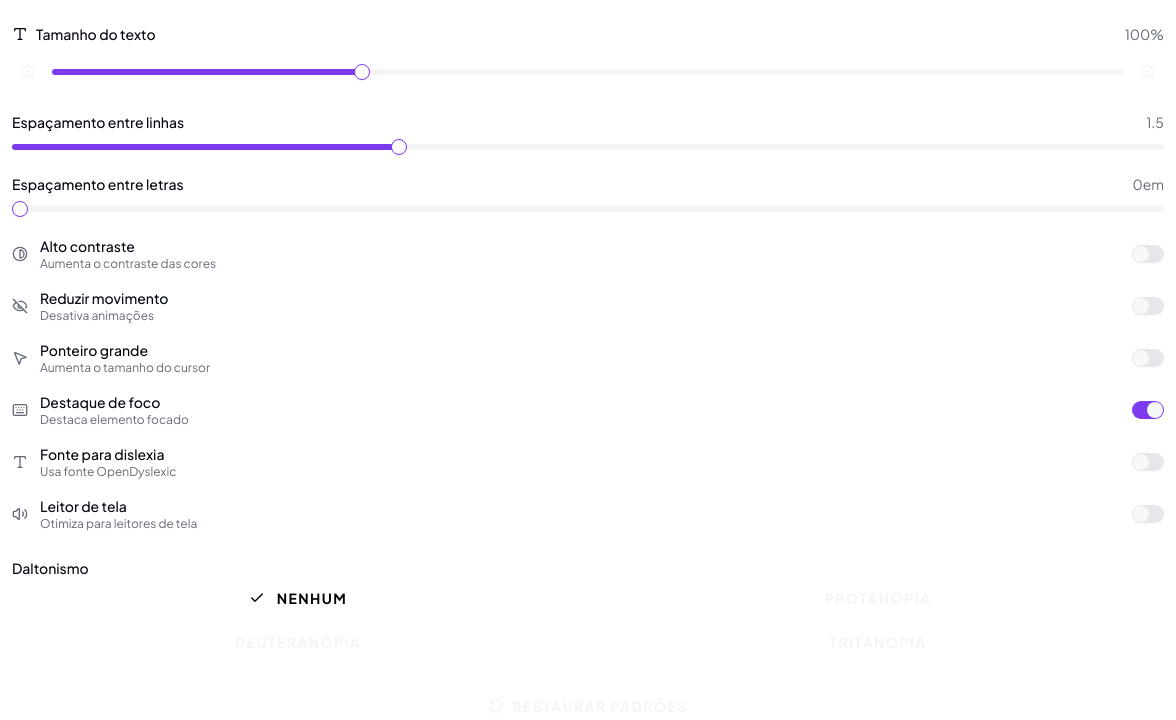
Test: o interruptor Reduzir movimento chega no framer-motion › ligar o switch no painel muda o app inteiro na hora, sem recarregar
Click the switch in the row of "Reduzir movimento": (1148, 306) [1132,297,1164,315]
(page scrolled)
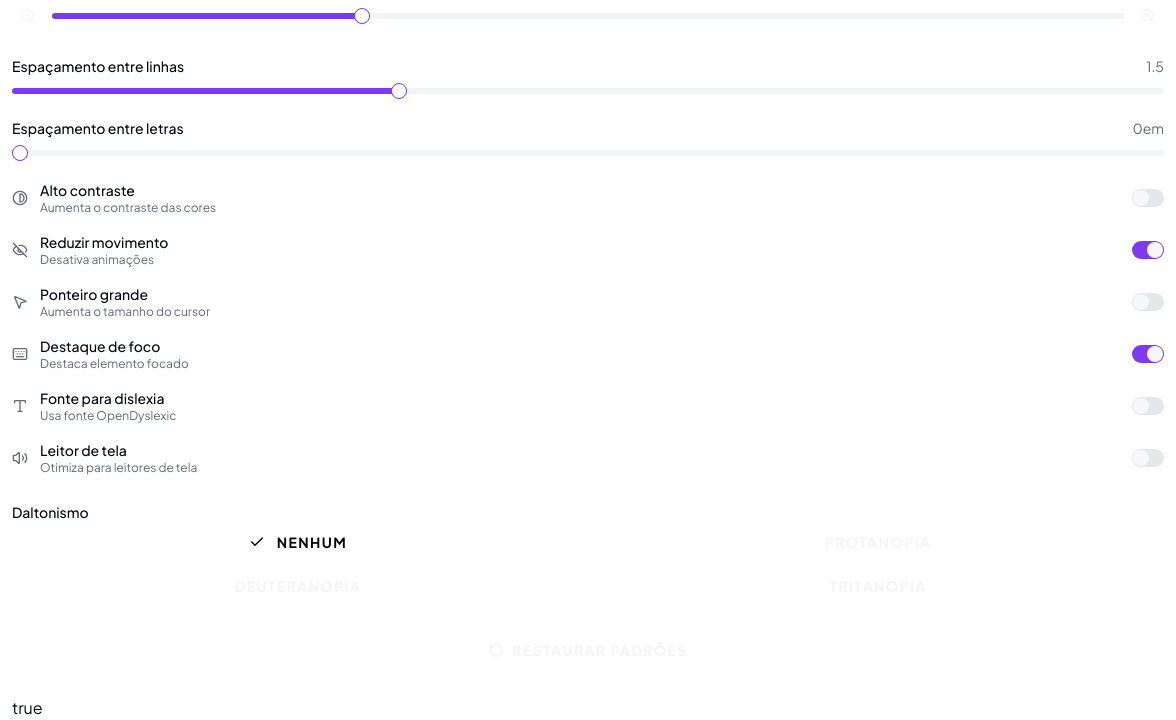
expect the text with test id "sonda-movimento" reads "true": met, box [12,697,43,718]
